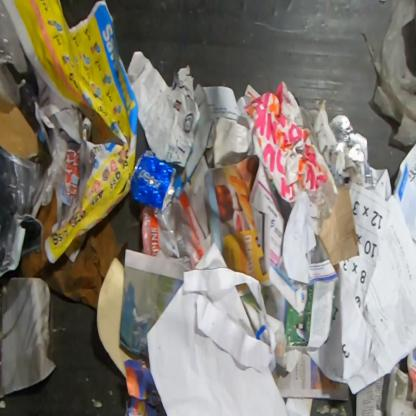cardboard: (21, 185, 125, 312), (0, 92, 39, 162)
metal: (131, 150, 177, 213)
soft_plastic: (359, 0, 415, 148), (142, 192, 206, 266), (0, 0, 29, 107)
